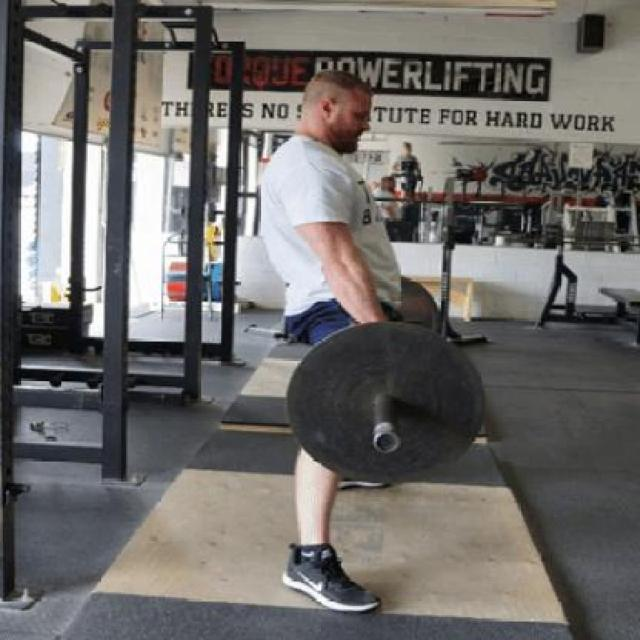barbell: (277, 313, 494, 491)
